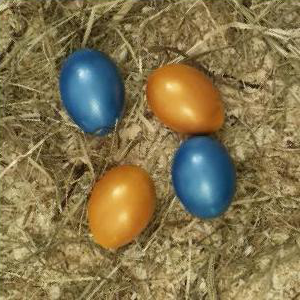egg: (86, 165, 157, 252), (146, 64, 226, 135), (60, 50, 125, 137), (173, 135, 236, 219)
